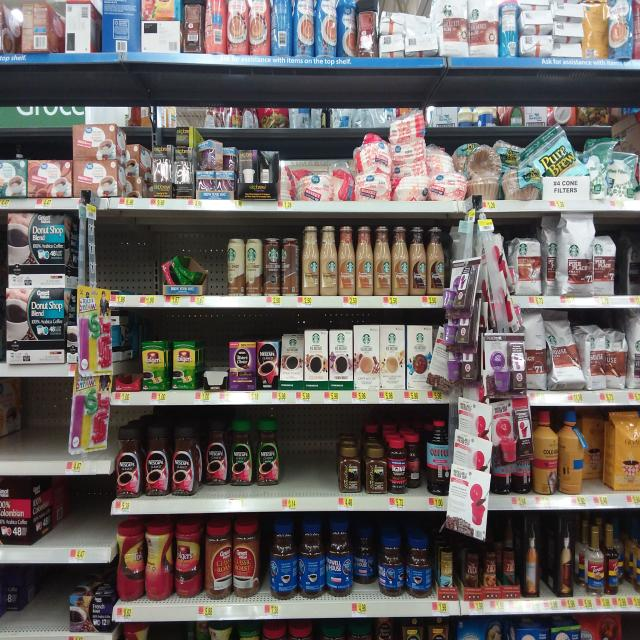unorganised: (205, 426, 279, 494), (545, 315, 582, 391), (115, 520, 145, 605), (145, 523, 176, 601), (390, 115, 428, 175), (559, 413, 585, 496), (352, 523, 379, 594), (357, 131, 394, 177), (455, 138, 498, 177), (583, 421, 603, 492), (497, 1, 521, 57), (279, 332, 306, 381), (606, 330, 626, 392), (273, 1, 293, 58), (336, 1, 355, 60), (281, 235, 299, 297), (407, 437, 425, 495), (128, 142, 145, 199), (428, 145, 454, 176), (198, 139, 219, 170), (617, 527, 627, 592), (223, 144, 236, 171)
